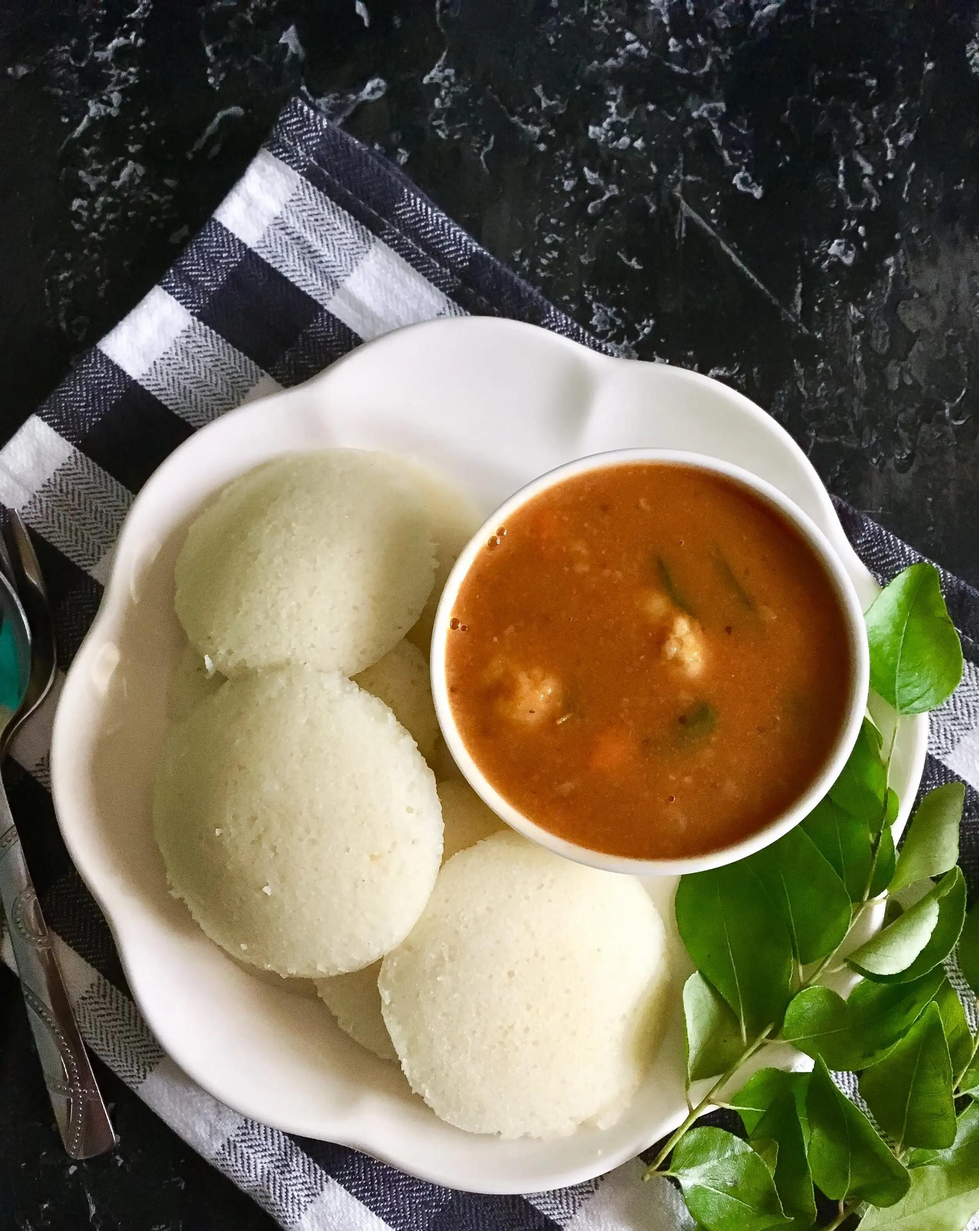Idli: (146, 662, 433, 982), (396, 833, 688, 1131), (169, 443, 461, 673)
